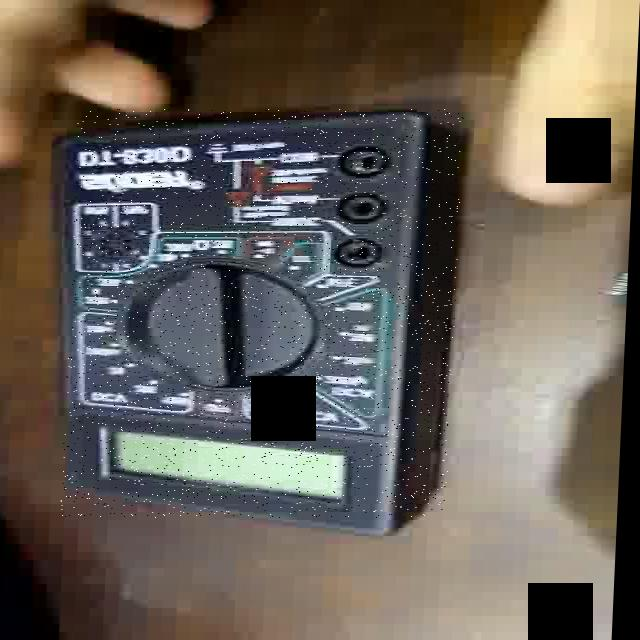multimeter: (65, 109, 465, 518)
